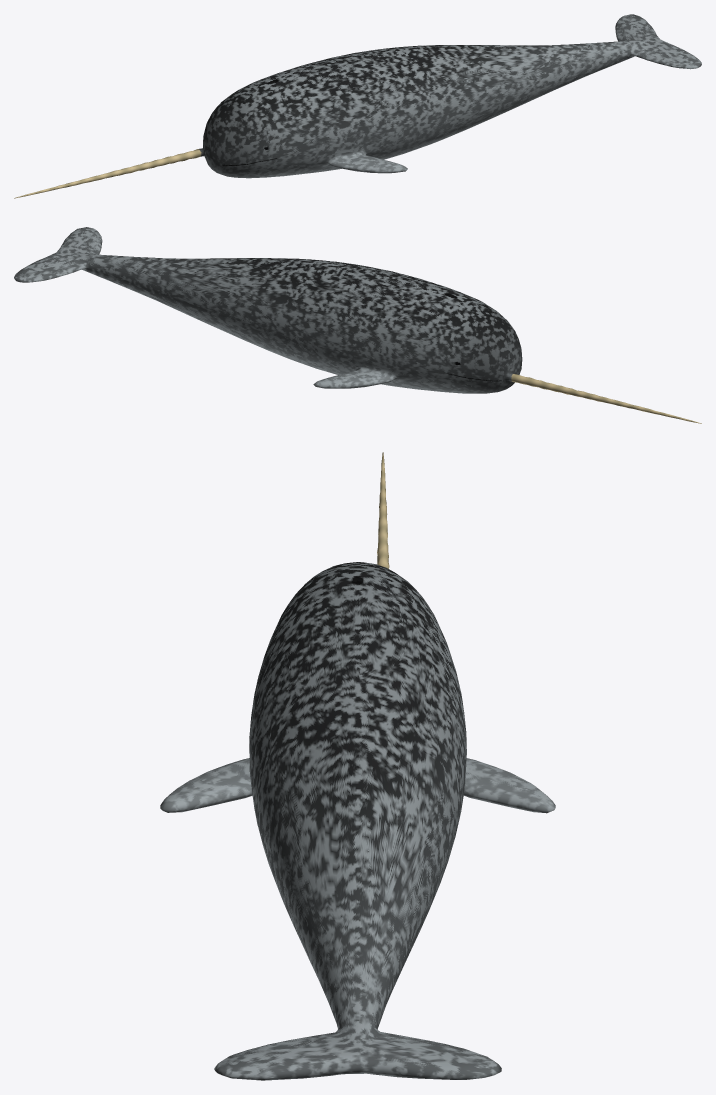
The picture shows the model from 3 angles, top to bottom: view 1: azimuth 30°, elevation 25°; view 2: azimuth 150°, elevation 25°; view 3: azimuth 270°, elevation 25°; orthographic projection. The views are drawn at different scales.
Parts seen in each view (by area): view 1: NEW407_Whole_male_narwhal_LOD2; view 2: NEW407_Whole_male_narwhal_LOD2; view 3: NEW407_Whole_male_narwhal_LOD2.
Part boxes in pixels (x1,y1,x2,y2): NEW407_Whole_male_narwhal_LOD2: [14, 14, 701, 198]; NEW407_Whole_male_narwhal_LOD2: [14, 227, 701, 423]; NEW407_Whole_male_narwhal_LOD2: [160, 452, 555, 1080].
Bounding box in the file's own units: 6.3 × 0.9489 × 1.66.
1 material, 1 textured.
